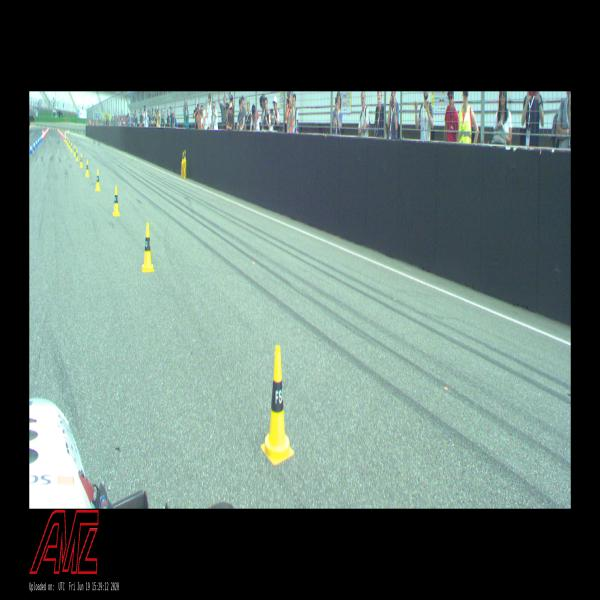blue_cone: (30, 143, 32, 154), (33, 141, 35, 150), (39, 136, 41, 143), (36, 139, 37, 147), (38, 137, 39, 144)
yellow_cone: (261, 346, 294, 465), (141, 223, 154, 272), (113, 186, 120, 216), (95, 170, 101, 191), (86, 160, 90, 177), (80, 154, 83, 168), (76, 149, 79, 161), (182, 151, 184, 163), (184, 150, 186, 161), (74, 146, 76, 156), (70, 143, 72, 152), (69, 141, 70, 149)
